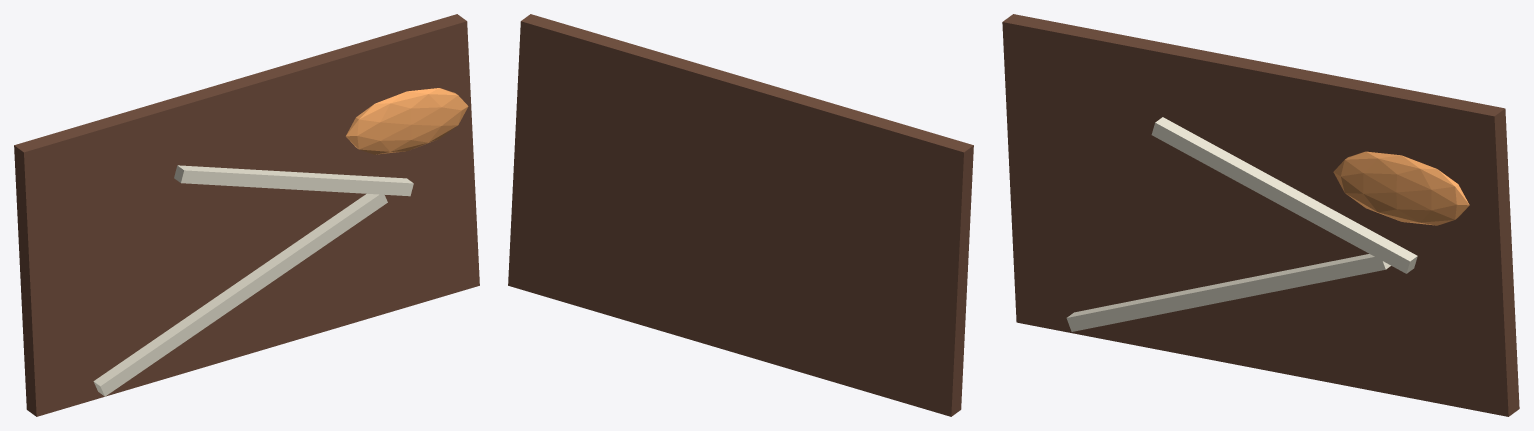
The model's file is 05_weathering_wear_overlay_5.glb.
The picture shows the model from 3 angles, left to right: view 1: azimuth 30°, elevation 25°; view 2: azimuth 150°, elevation 25°; view 3: azimuth 330°, elevation 25°; orthographic projection. The views are drawn at different scales.
Parts seen in each view (by area): view 1: wear_plate, scratch_a, rust_or_moss_spot, scratch_b; view 2: wear_plate; view 3: wear_plate, rust_or_moss_spot, scratch_b, scratch_a.
Part boxes in pixels (box(x1,y1,x2,y2)): wear_plate: box(14, 14, 479, 416); scratch_a: box(93, 194, 387, 396); rust_or_moss_spot: box(346, 88, 468, 154); scratch_b: box(174, 165, 413, 196); wear_plate: box(508, 14, 973, 416); wear_plate: box(1002, 14, 1519, 416); rust_or_moss_spot: box(1333, 151, 1469, 225); scratch_b: box(1151, 117, 1417, 273); scratch_a: box(1066, 254, 1390, 331).
Bounding box in the file's own units: 1.34 × 0.8138 × 0.134.
